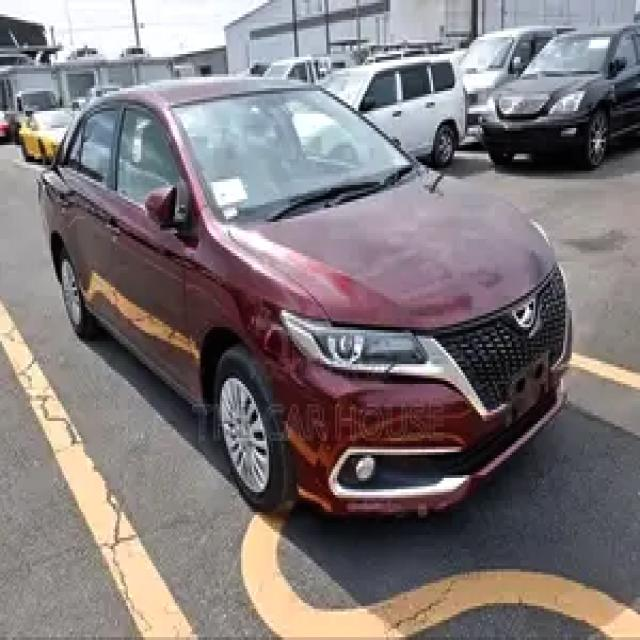black: (484, 34, 640, 174)
maroon: (35, 75, 596, 529)
white: (318, 57, 471, 171)
